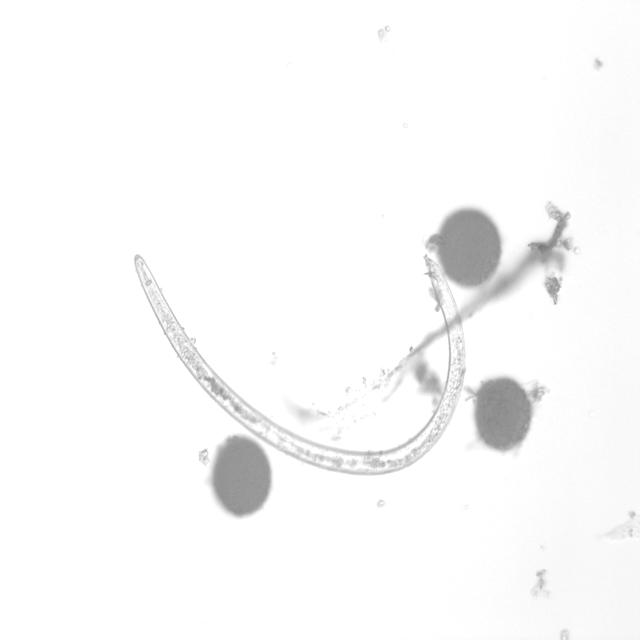Helicotylenchus: (125, 242, 473, 481)
